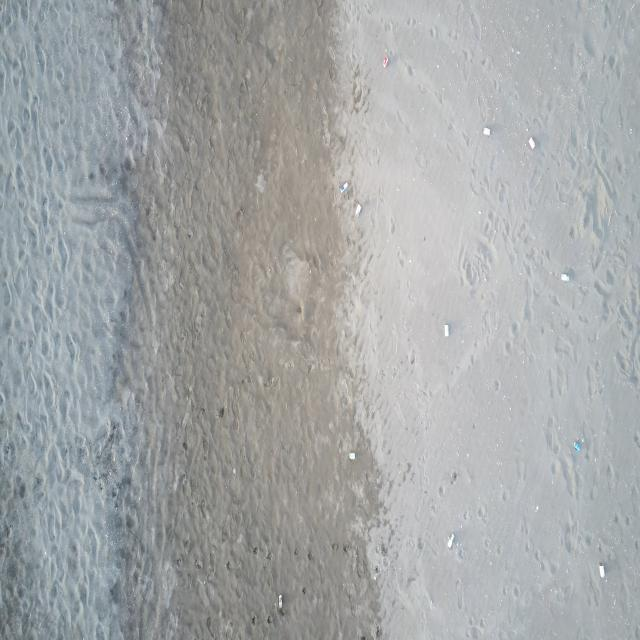tin-and-aluminum-cans: (339, 181, 349, 194), (355, 202, 363, 218), (448, 534, 456, 549), (528, 136, 536, 149), (599, 562, 605, 579), (277, 593, 283, 610), (482, 126, 491, 137), (561, 272, 570, 282), (572, 443, 580, 453), (382, 56, 388, 69), (444, 324, 449, 338), (349, 450, 356, 460)
